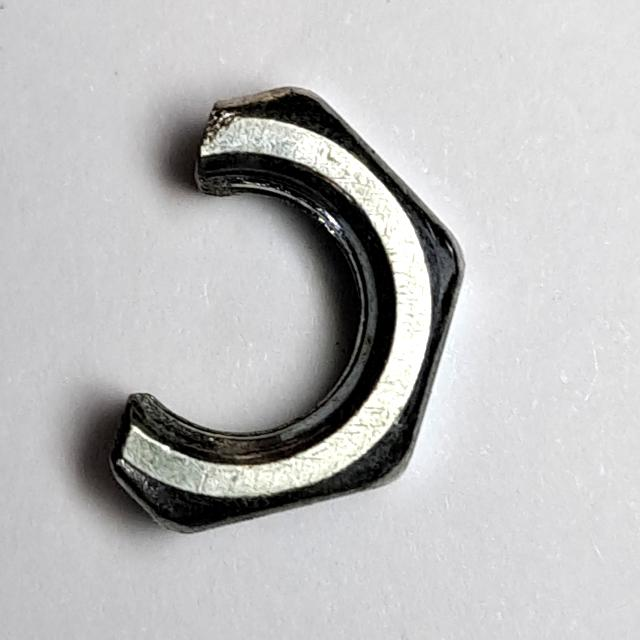Fracture: (94, 73, 479, 555)
